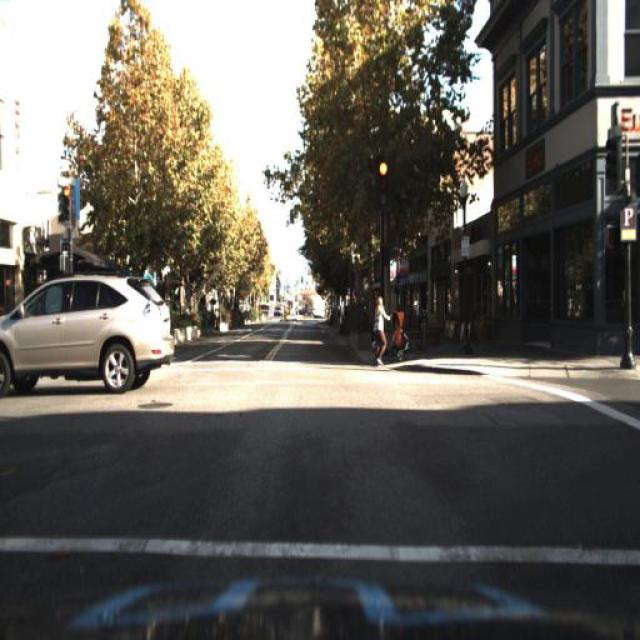car: (0, 268, 186, 402)
trafficLight: (365, 284, 416, 367)
trafficLight-RedLeft: (57, 171, 79, 221), (376, 153, 392, 194), (58, 180, 72, 222)
